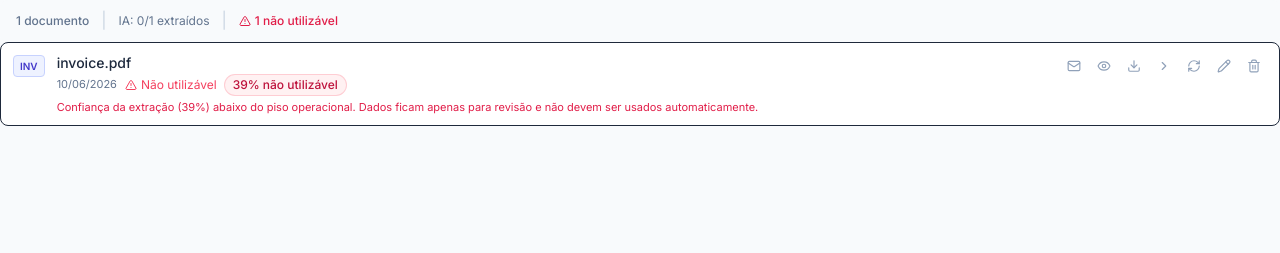
Test: DocumentList › marks completed low-confidence documents as not usable
expect the text "IA: 0/1 extraídos" is shown: met, box 118,13 -> 210,29
expect the text "1 não utilizável" is shown: met, box 239,13 -> 338,29
Click the button named "Ver dados extraidos de invoice.pdf". click: (1164, 66)
box: 1151,53 -> 1177,79
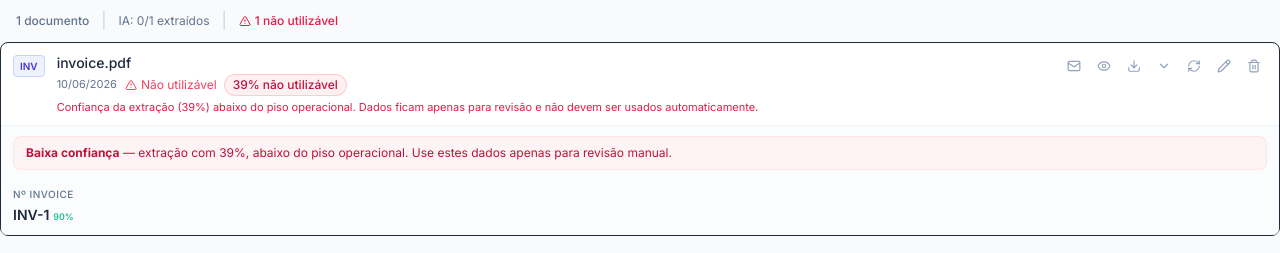
expect the text "Baixa confiança" is shown: met, box 26,145 -> 120,160
expect the text "Use estes dados apenas para revisão manual" is shown: met, box 412,145 -> 672,160
